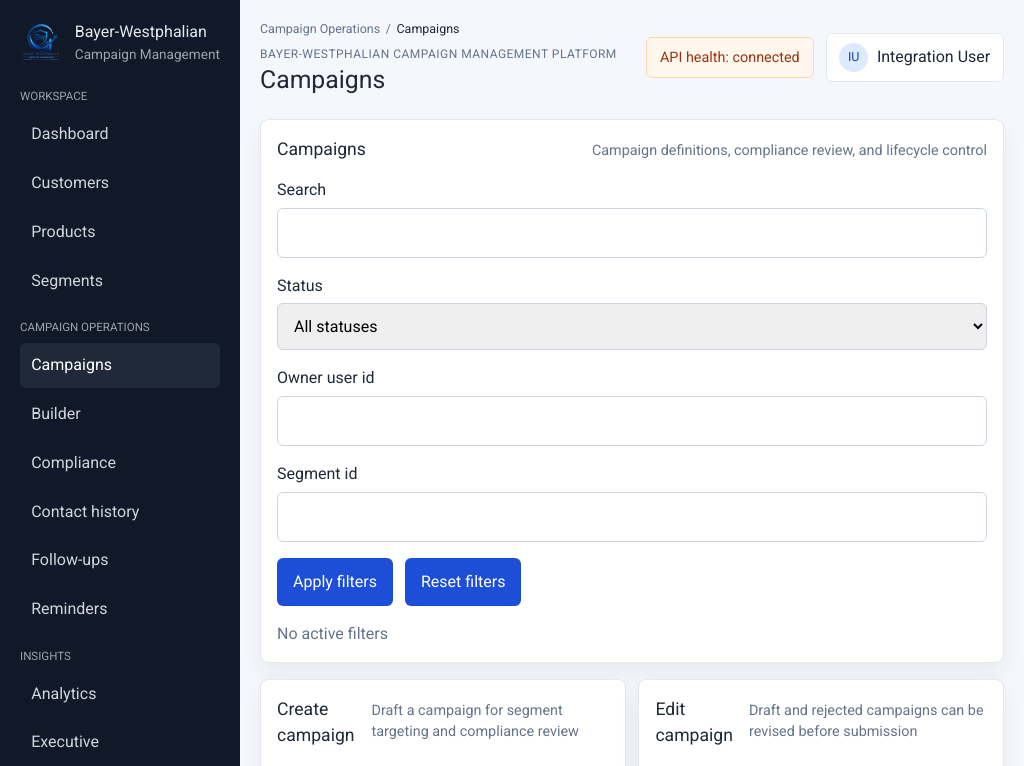
it: workflow route integration (item 596) › navigates from campaigns to campaign builder through the shell
The width and height of the screenshot is (1024, 766).
Expected: the heading "Campaigns" below "API health: connected" is shown, [260,65,385,94]
Click the link "Builder".
click(56, 414)  # box [31,404,81,423]
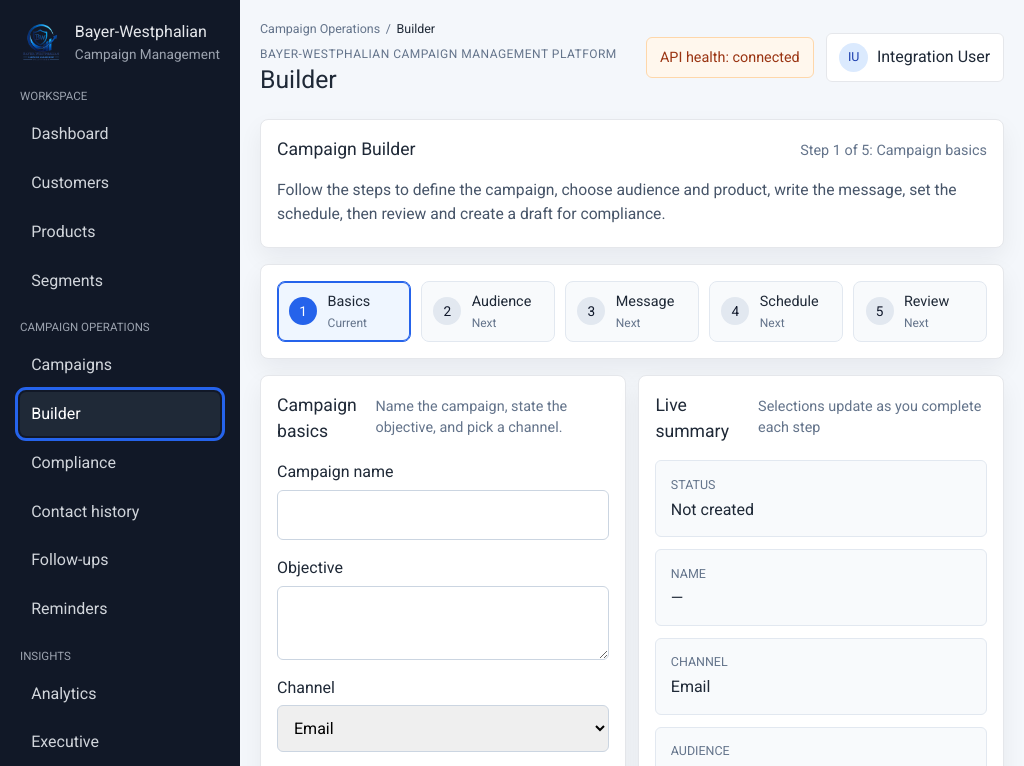
Now the heading "Builder" is shown, box [260,65,337,94]
Now the navigation bar named "Campaign builder steps" is shown, box [260,264,1004,359]
